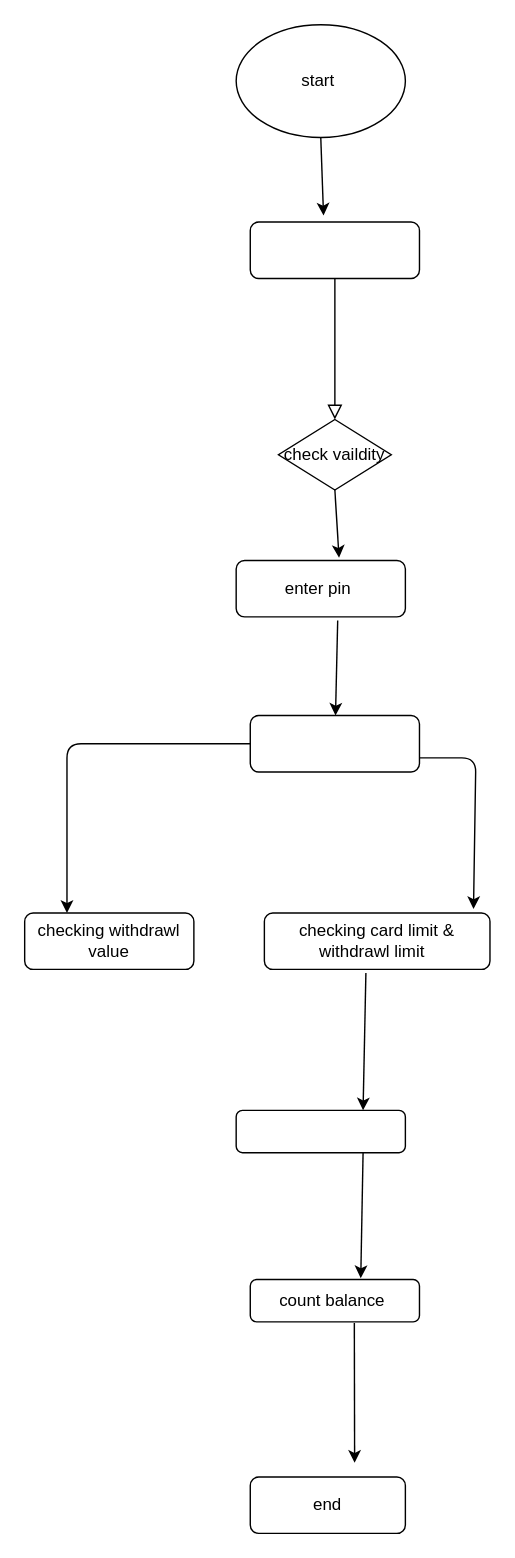
The diagram is 515 pixels wide and 1558 high, and some of its shapes have lost their labels. Here are the shapes that lost their labels. From the top down, the centre of each, then its label:
(x=334, y=249): input your card
(x=334, y=743): select option
(x=320, y=1131): cash withdrawl
